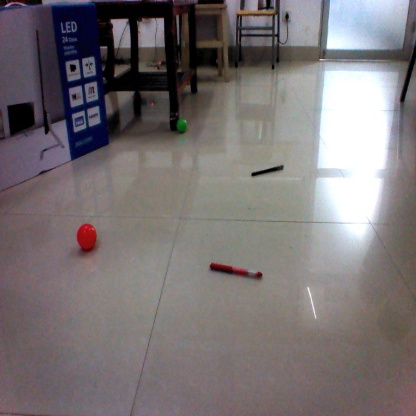ball: (76, 223, 98, 250), (173, 117, 190, 136)
pen: (208, 259, 263, 279), (249, 162, 286, 177)
